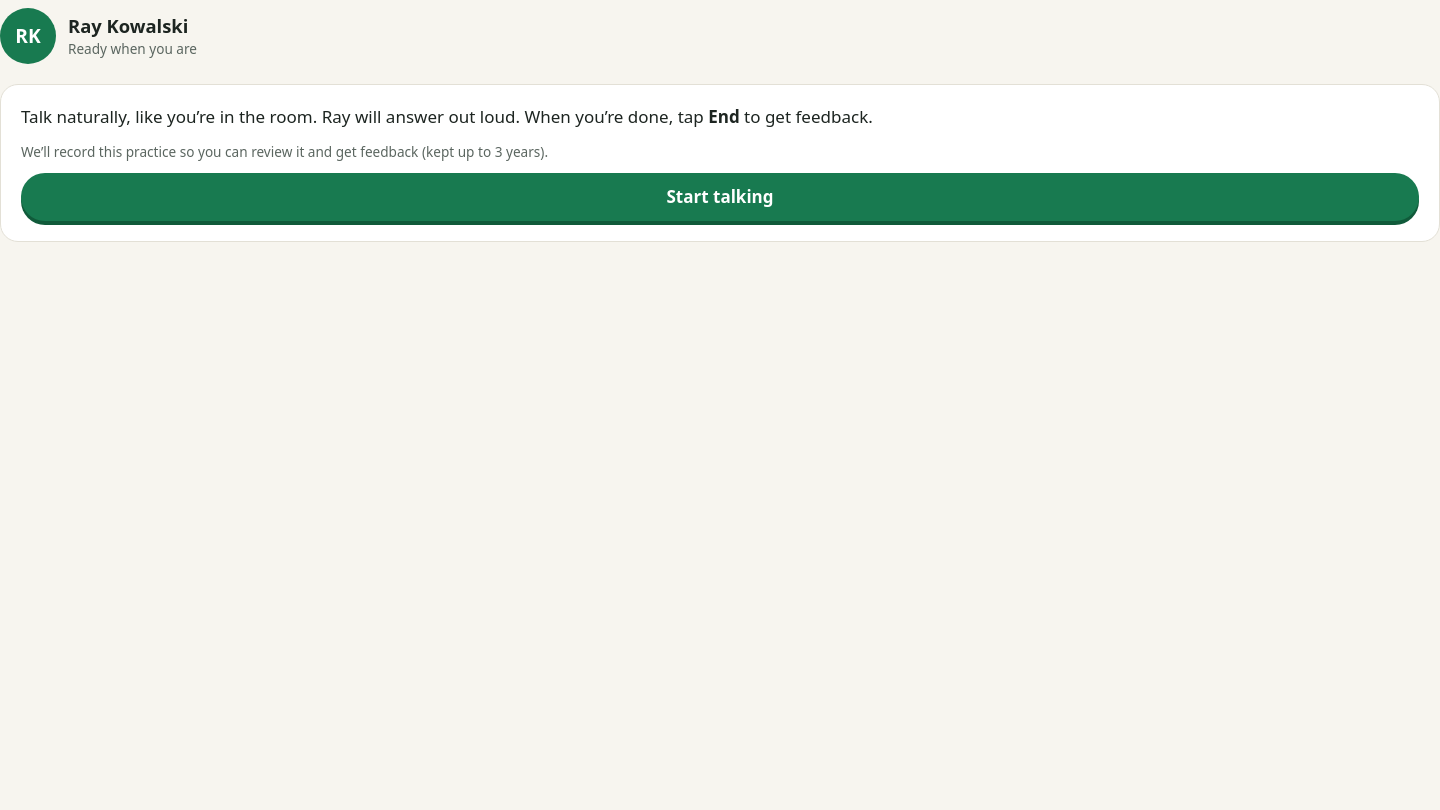
Test: two-way voice › a “mm-hm” over the patient is listening, not cutting him off
Click the button "Start talking" at (720, 197), box x1=21 y1=173 x2=1419 y2=221
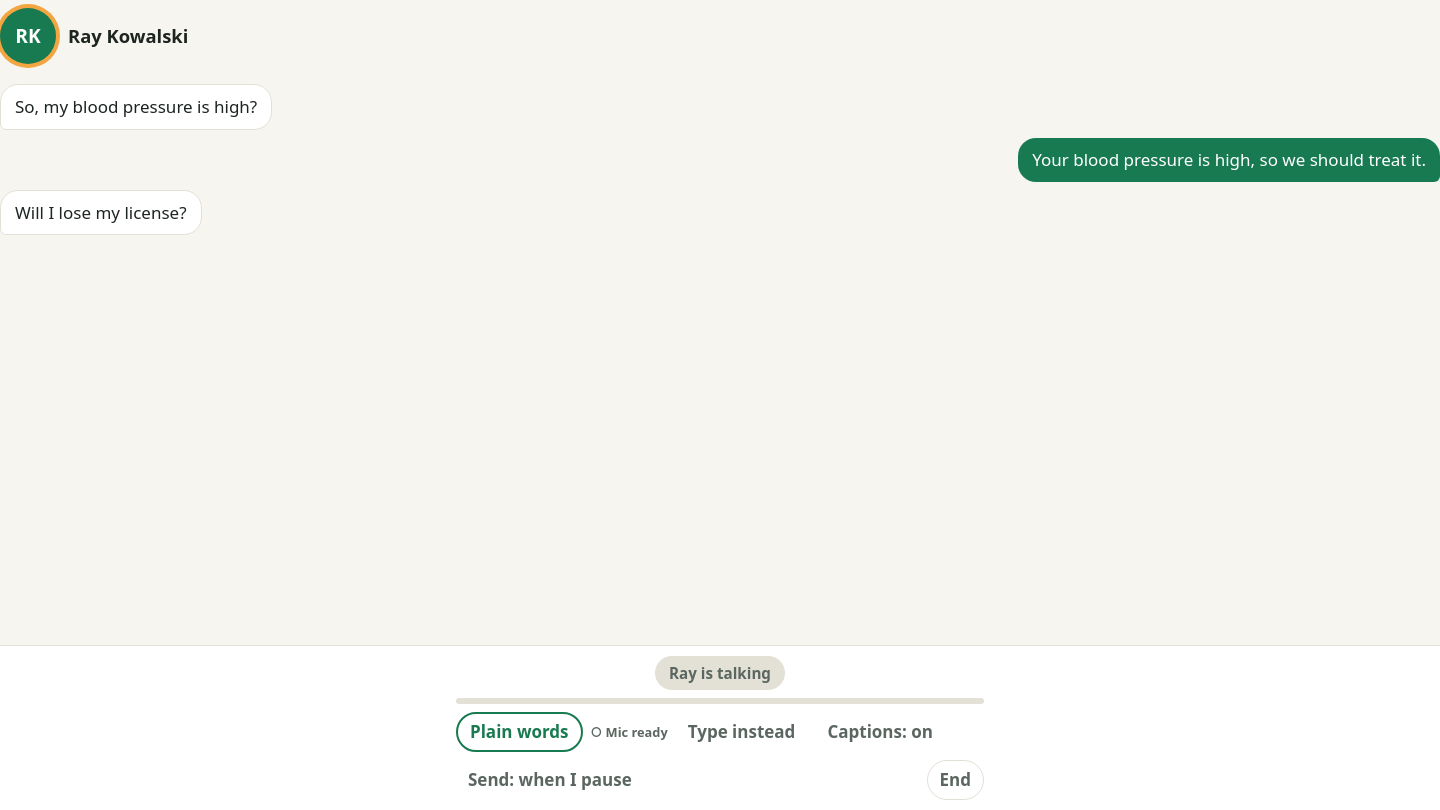
Result: the text "So, my blood pressure is high?" is shown at x1=0 y1=84 x2=272 y2=130
Result: the text "Will I lose my license?" is shown at x1=0 y1=190 x2=202 y2=235
